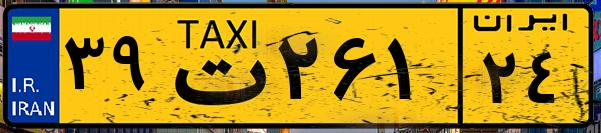1: (385, 28, 445, 110)
2: (270, 28, 330, 110), (475, 38, 525, 113)
3: (57, 26, 110, 100)
4: (525, 38, 570, 115)
6: (330, 28, 385, 110)
9: (110, 28, 158, 98)
ت: (158, 12, 270, 120)
